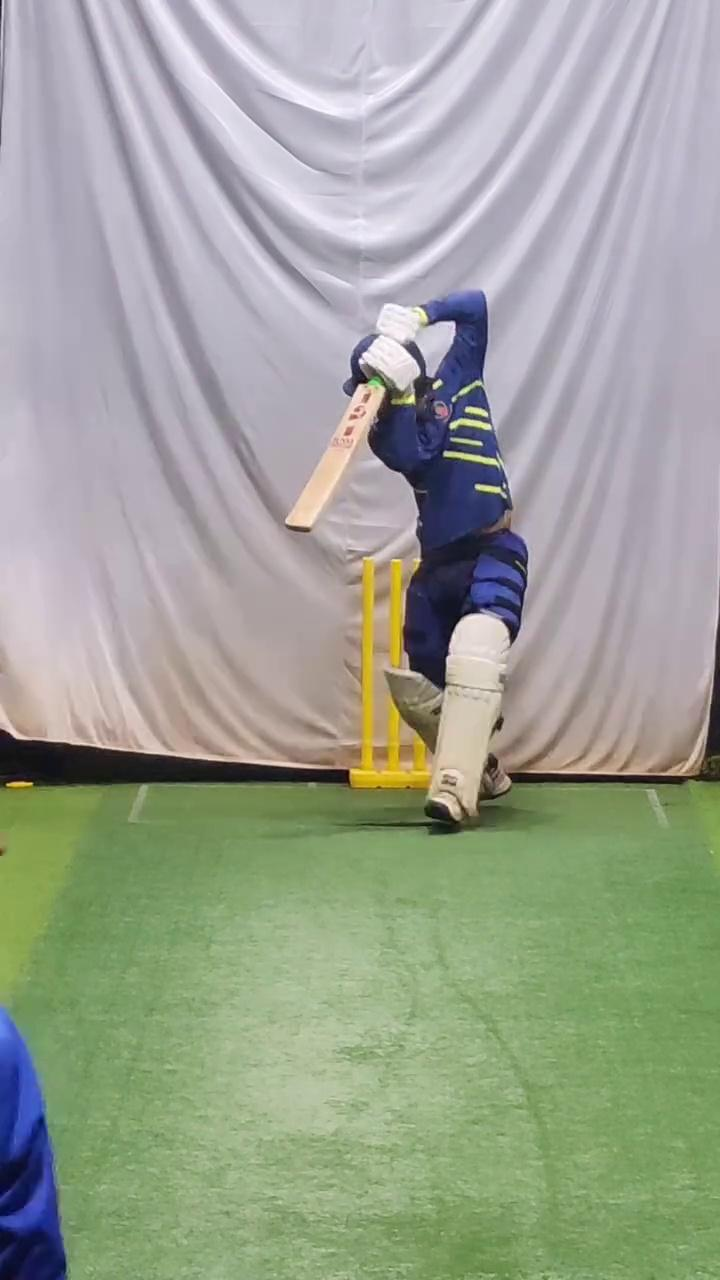bat: (280, 372, 388, 542)
